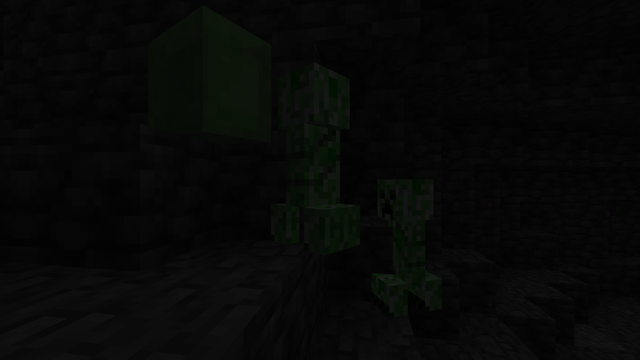creepers: (274, 53, 345, 251), (379, 173, 434, 318)
slimes: (136, 7, 268, 146)
